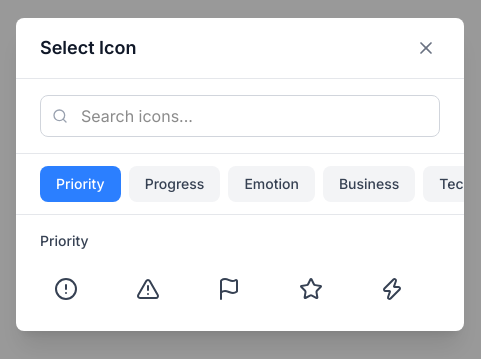
Test: IconPicker › should show "No icons found" when search has no results
The image size is (481, 359).
In the field with placeholder "Search icons...": (240, 116) [40,94,440,136], type "nonexistent"
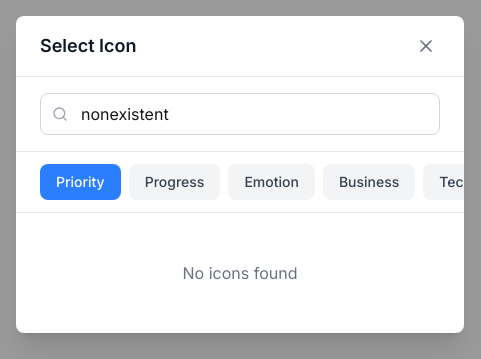
expect the text "No icons found" is shown: met, box [182,262,297,282]
